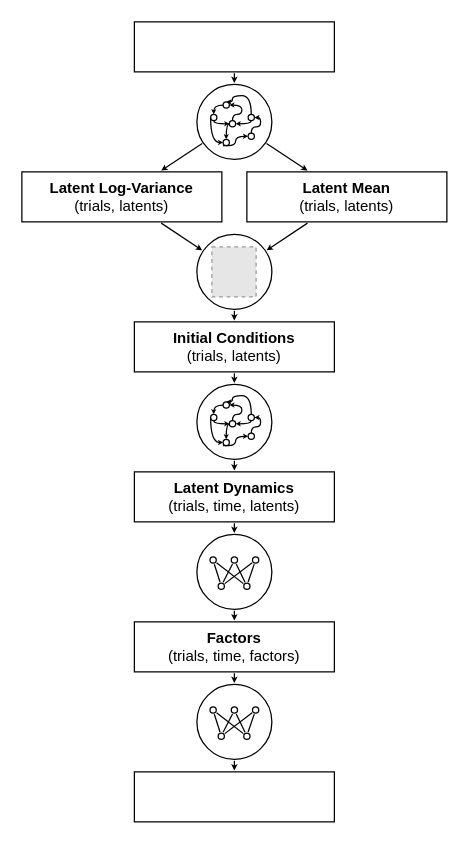
Image size: 469x844. Some labels were removed from this diagram. Grey dashed boxes stand in for pictures. The centre of each missing label's shape, as x and y in pixels:
"Firing Rates (trials, time, neurons)" belongs at pixel 233 796.
"Neural Activity (trials, time, neurons)" belongs at pixel 233 46.
